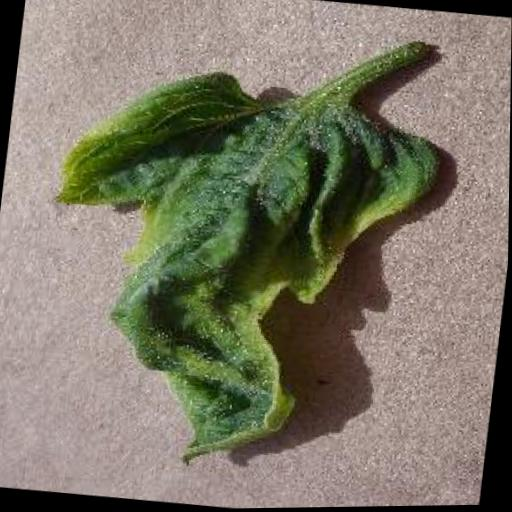Yellow Leaf Curl Virus: (29, 52, 448, 492)
